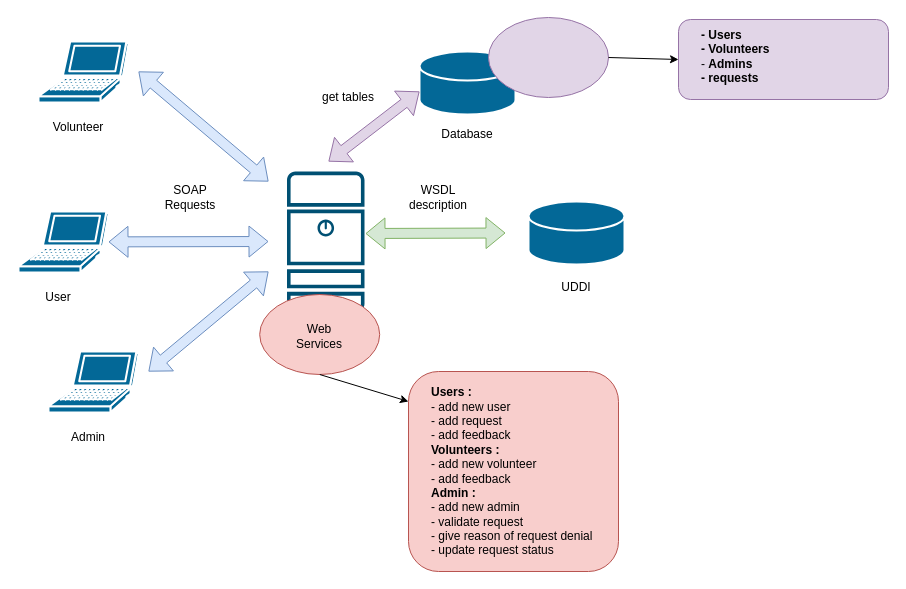
Some shapes in this 906 by 589 pixel diagram are drawn without their labels. Here are the shapes that lost their labels. From the top down, the centre of each, then its label:
At point 548,57: "tables".
At point 325,241: "Server".
